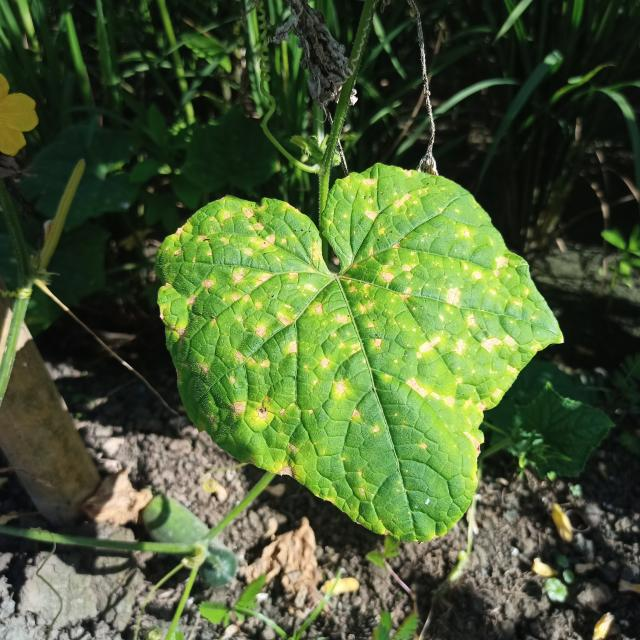disease_cucumber: (155, 176, 543, 484)
